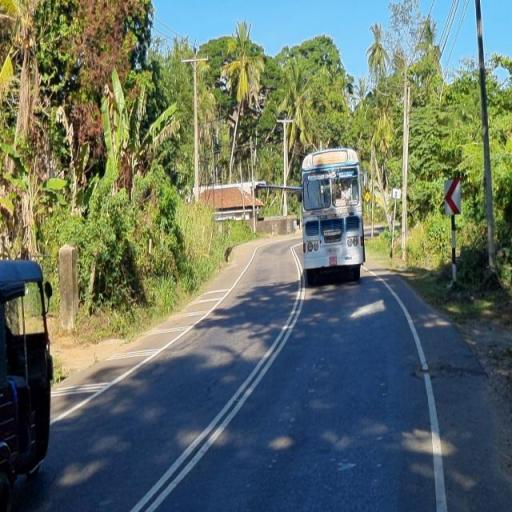double_white_line: (130, 242, 306, 512)
